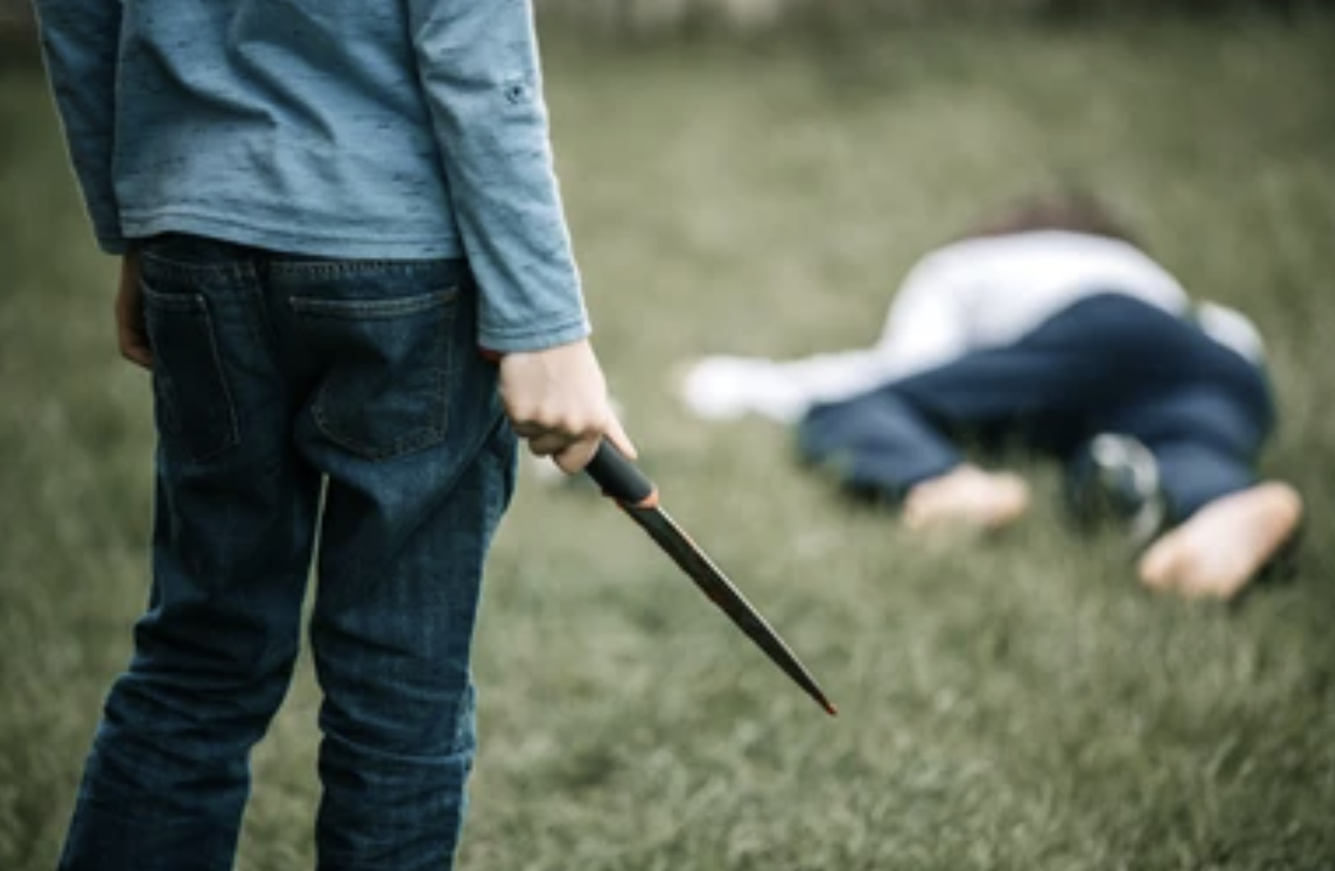knife_65.png: (538, 415, 845, 727)
